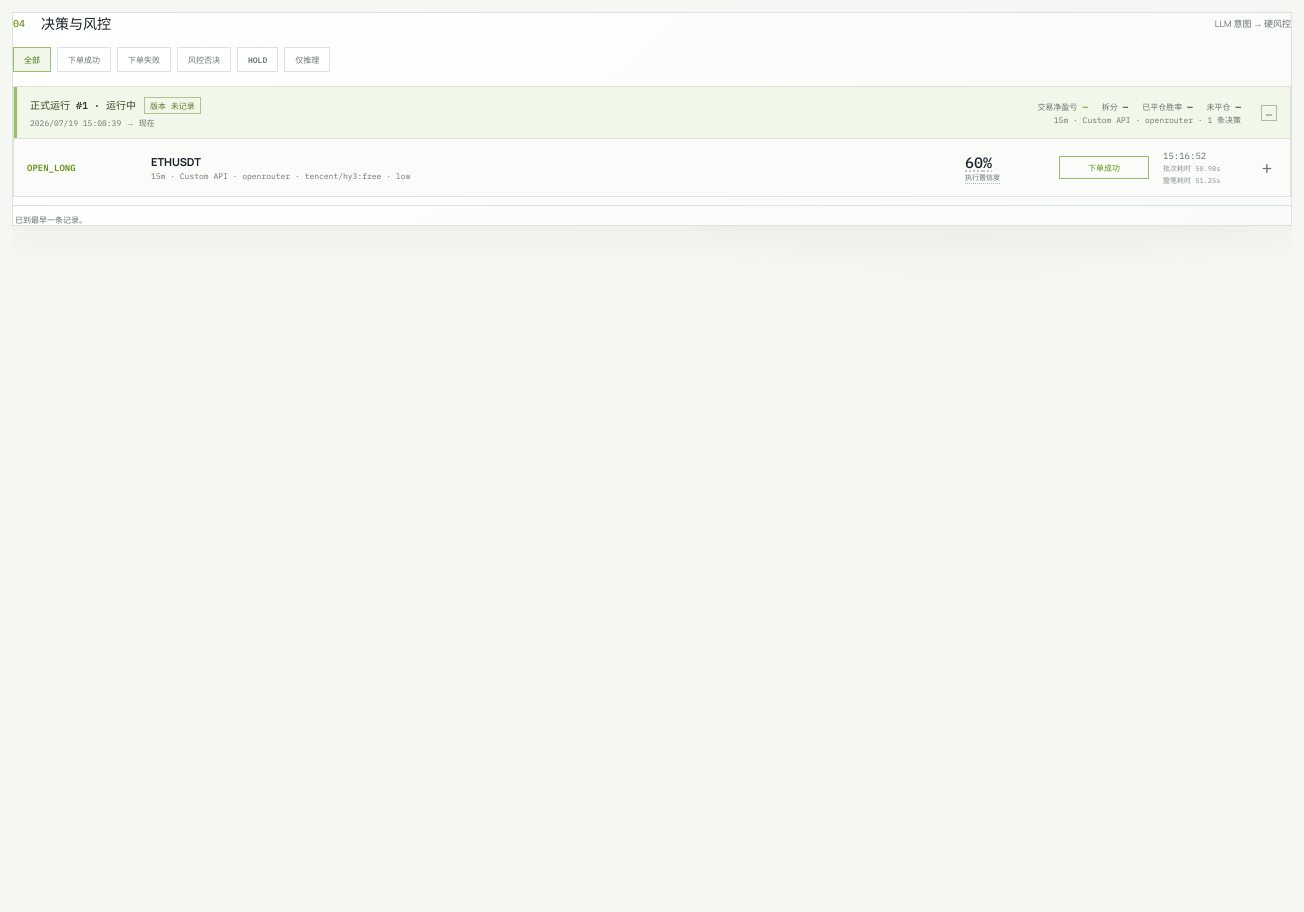
Test case: DecisionPanel › shows fill notional and estimated initial margin after a successful order
Click the button "OPEN_LONG".
click(51, 168)  # box [14,139,1290,196]
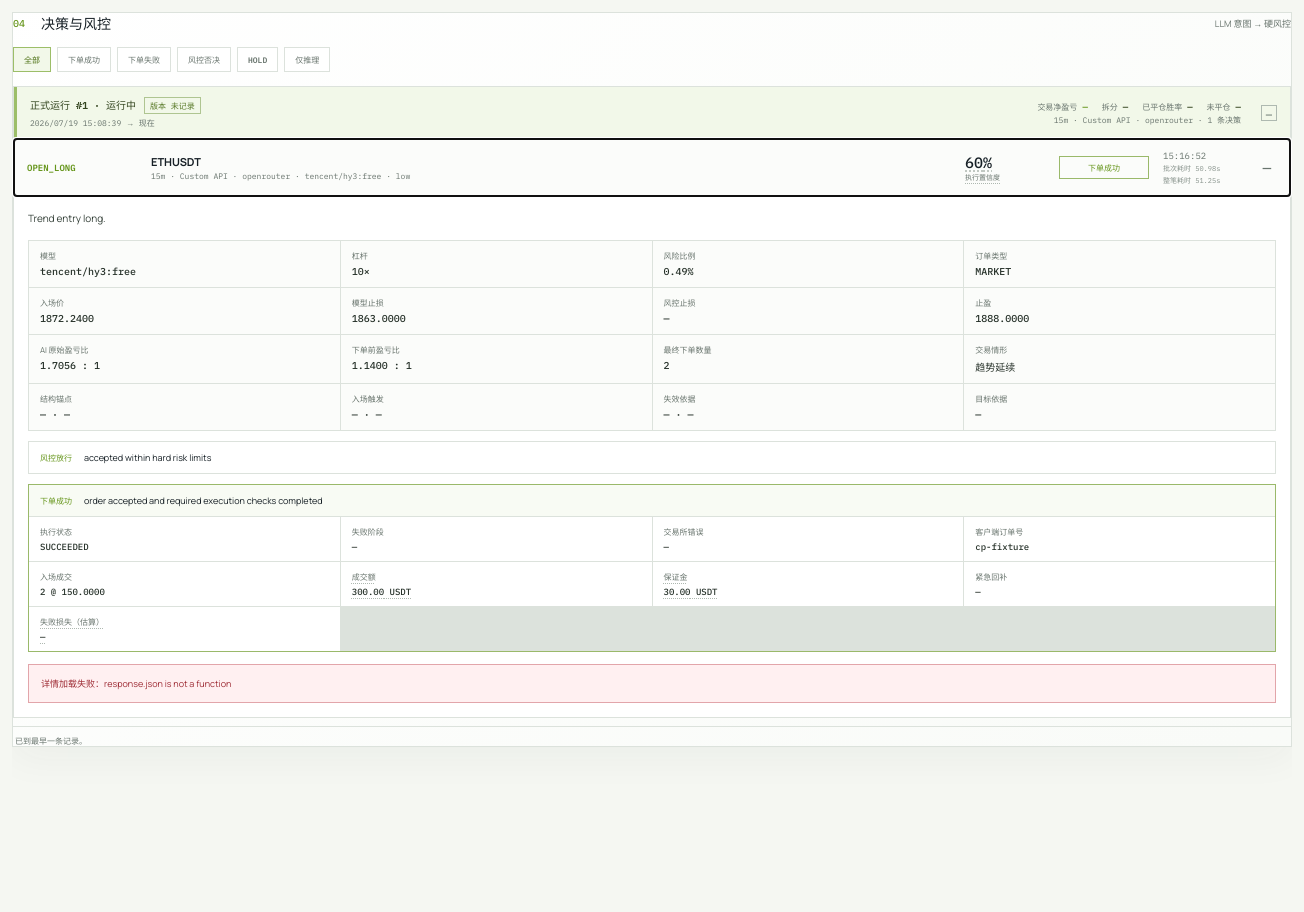
Expected: the text "成交额" is shown, [352,571,376,582]
Expected: the text "300.00 USDT" is shown, [352,586,411,597]
Expected: the text "保证金" is shown, [664,571,688,582]
